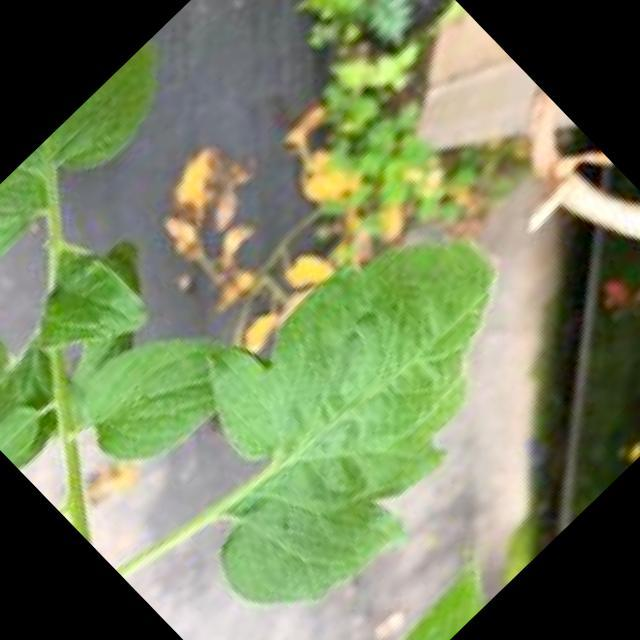Tomato healthy leaf: (173, 239, 500, 604), (82, 338, 211, 458)
